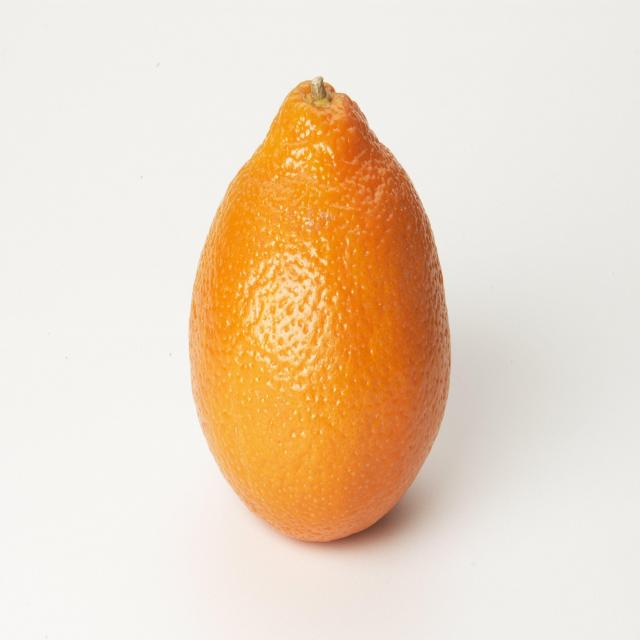10_tangerine: (169, 66, 463, 560)
